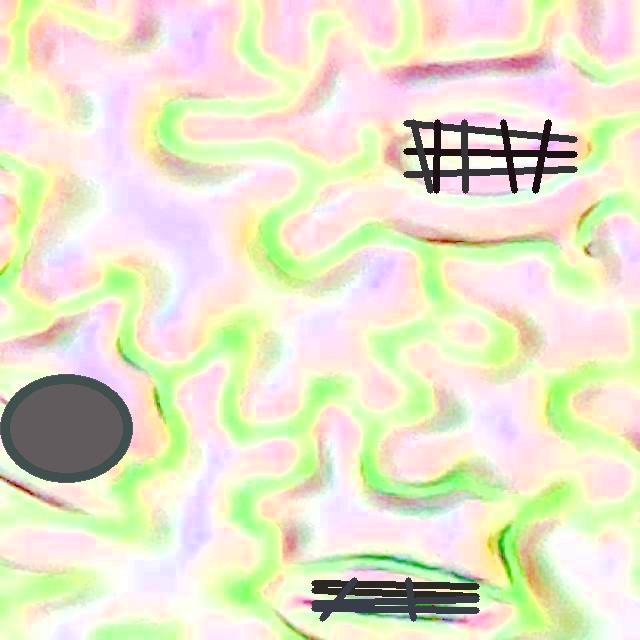open: (0, 373, 133, 483), (403, 119, 576, 193), (312, 577, 479, 620)
